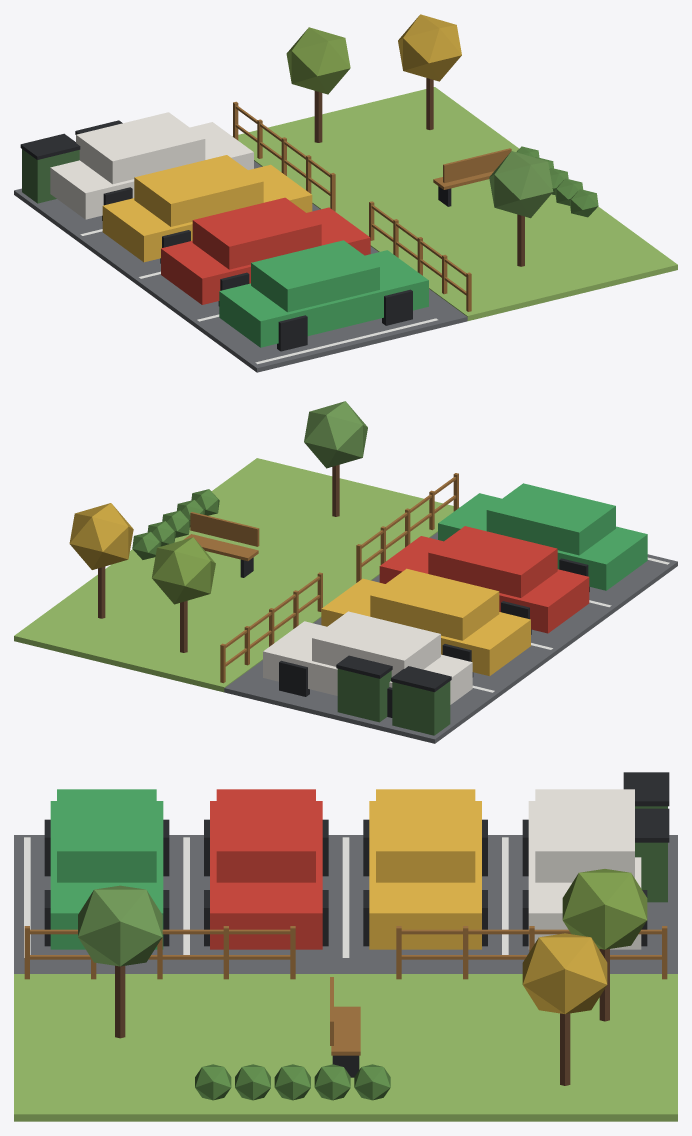
The model's file is Avlu_karma_Hafif.fbx.
The picture shows the model from 3 angles, top to bottom: view 1: azimuth 30°, elevation 25°; view 2: azimuth 150°, elevation 25°; view 3: azimuth 270°, elevation 25°; orthographic projection. The views are drawn at different scales.
Visible parts, largest first — view 1: Avlu_karma_Hafif; view 2: Avlu_karma_Hafif; view 3: Avlu_karma_Hafif.
Part boxes in pixels (left/top/right/bottom): Avlu_karma_Hafif: left=14, top=14, right=677, bottom=372; Avlu_karma_Hafif: left=14, top=401, right=677, bottom=743; Avlu_karma_Hafif: left=14, top=772, right=677, bottom=1121.
Size of the model in its own units: 10 by 2.55 by 10.
